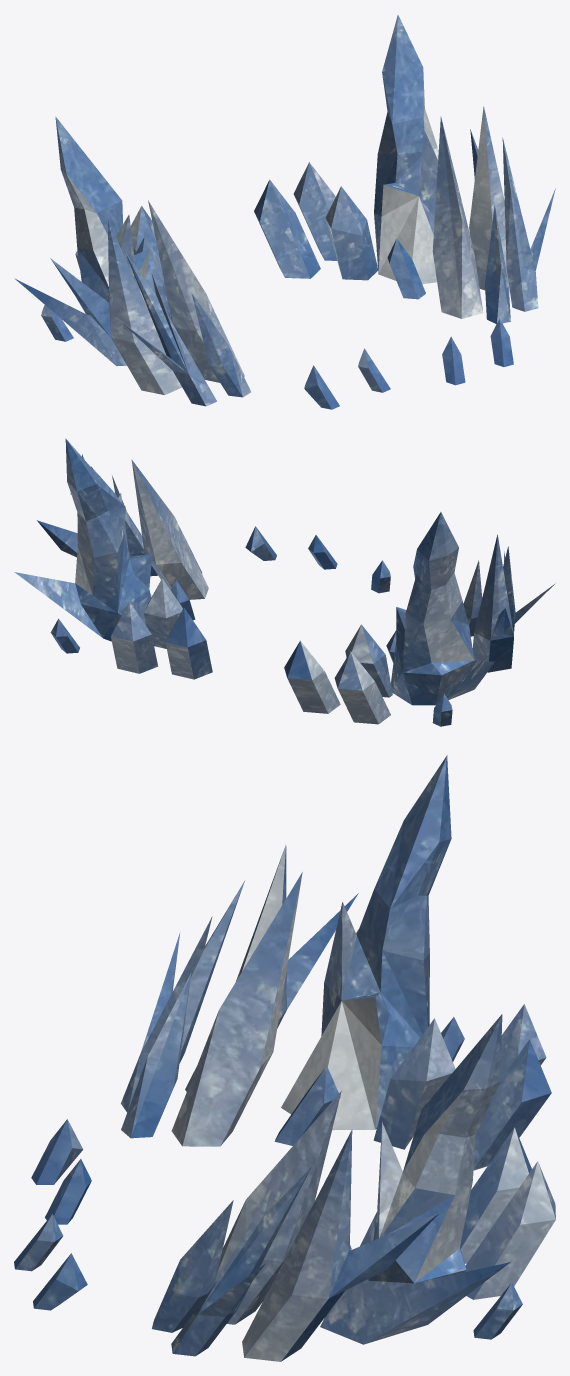
Rendered from winter_lord_spike_aura.glb.
The picture shows the model from 3 angles, top to bottom: view 1: azimuth 30°, elevation 25°; view 2: azimuth 150°, elevation 25°; view 3: azimuth 270°, elevation 25°; orthographic projection. The views are drawn at different scales.
Parts seen in each view (by area): view 1: aura_winter_lord; view 2: aura_winter_lord; view 3: aura_winter_lord.
Part boxes in pixels (x1,y1,x2,y2): aura_winter_lord: (14, 15, 555, 409); aura_winter_lord: (14, 438, 555, 726); aura_winter_lord: (14, 755, 555, 1361).
Bounding box in the file's own units: 2.71 × 1.18 × 1.78.
1 material, 1 textured.
